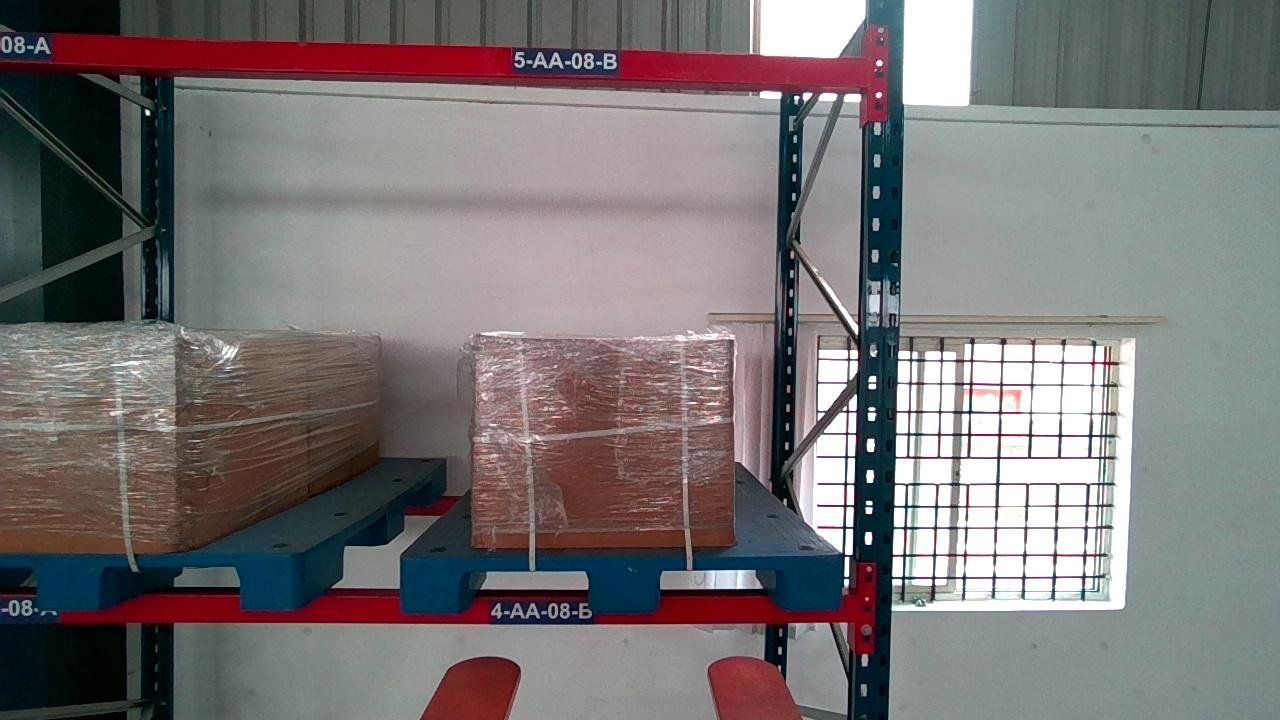h_rack: (11, 34, 870, 85), (12, 595, 859, 626)
small_pallet: (402, 552, 840, 613), (0, 550, 299, 605)
